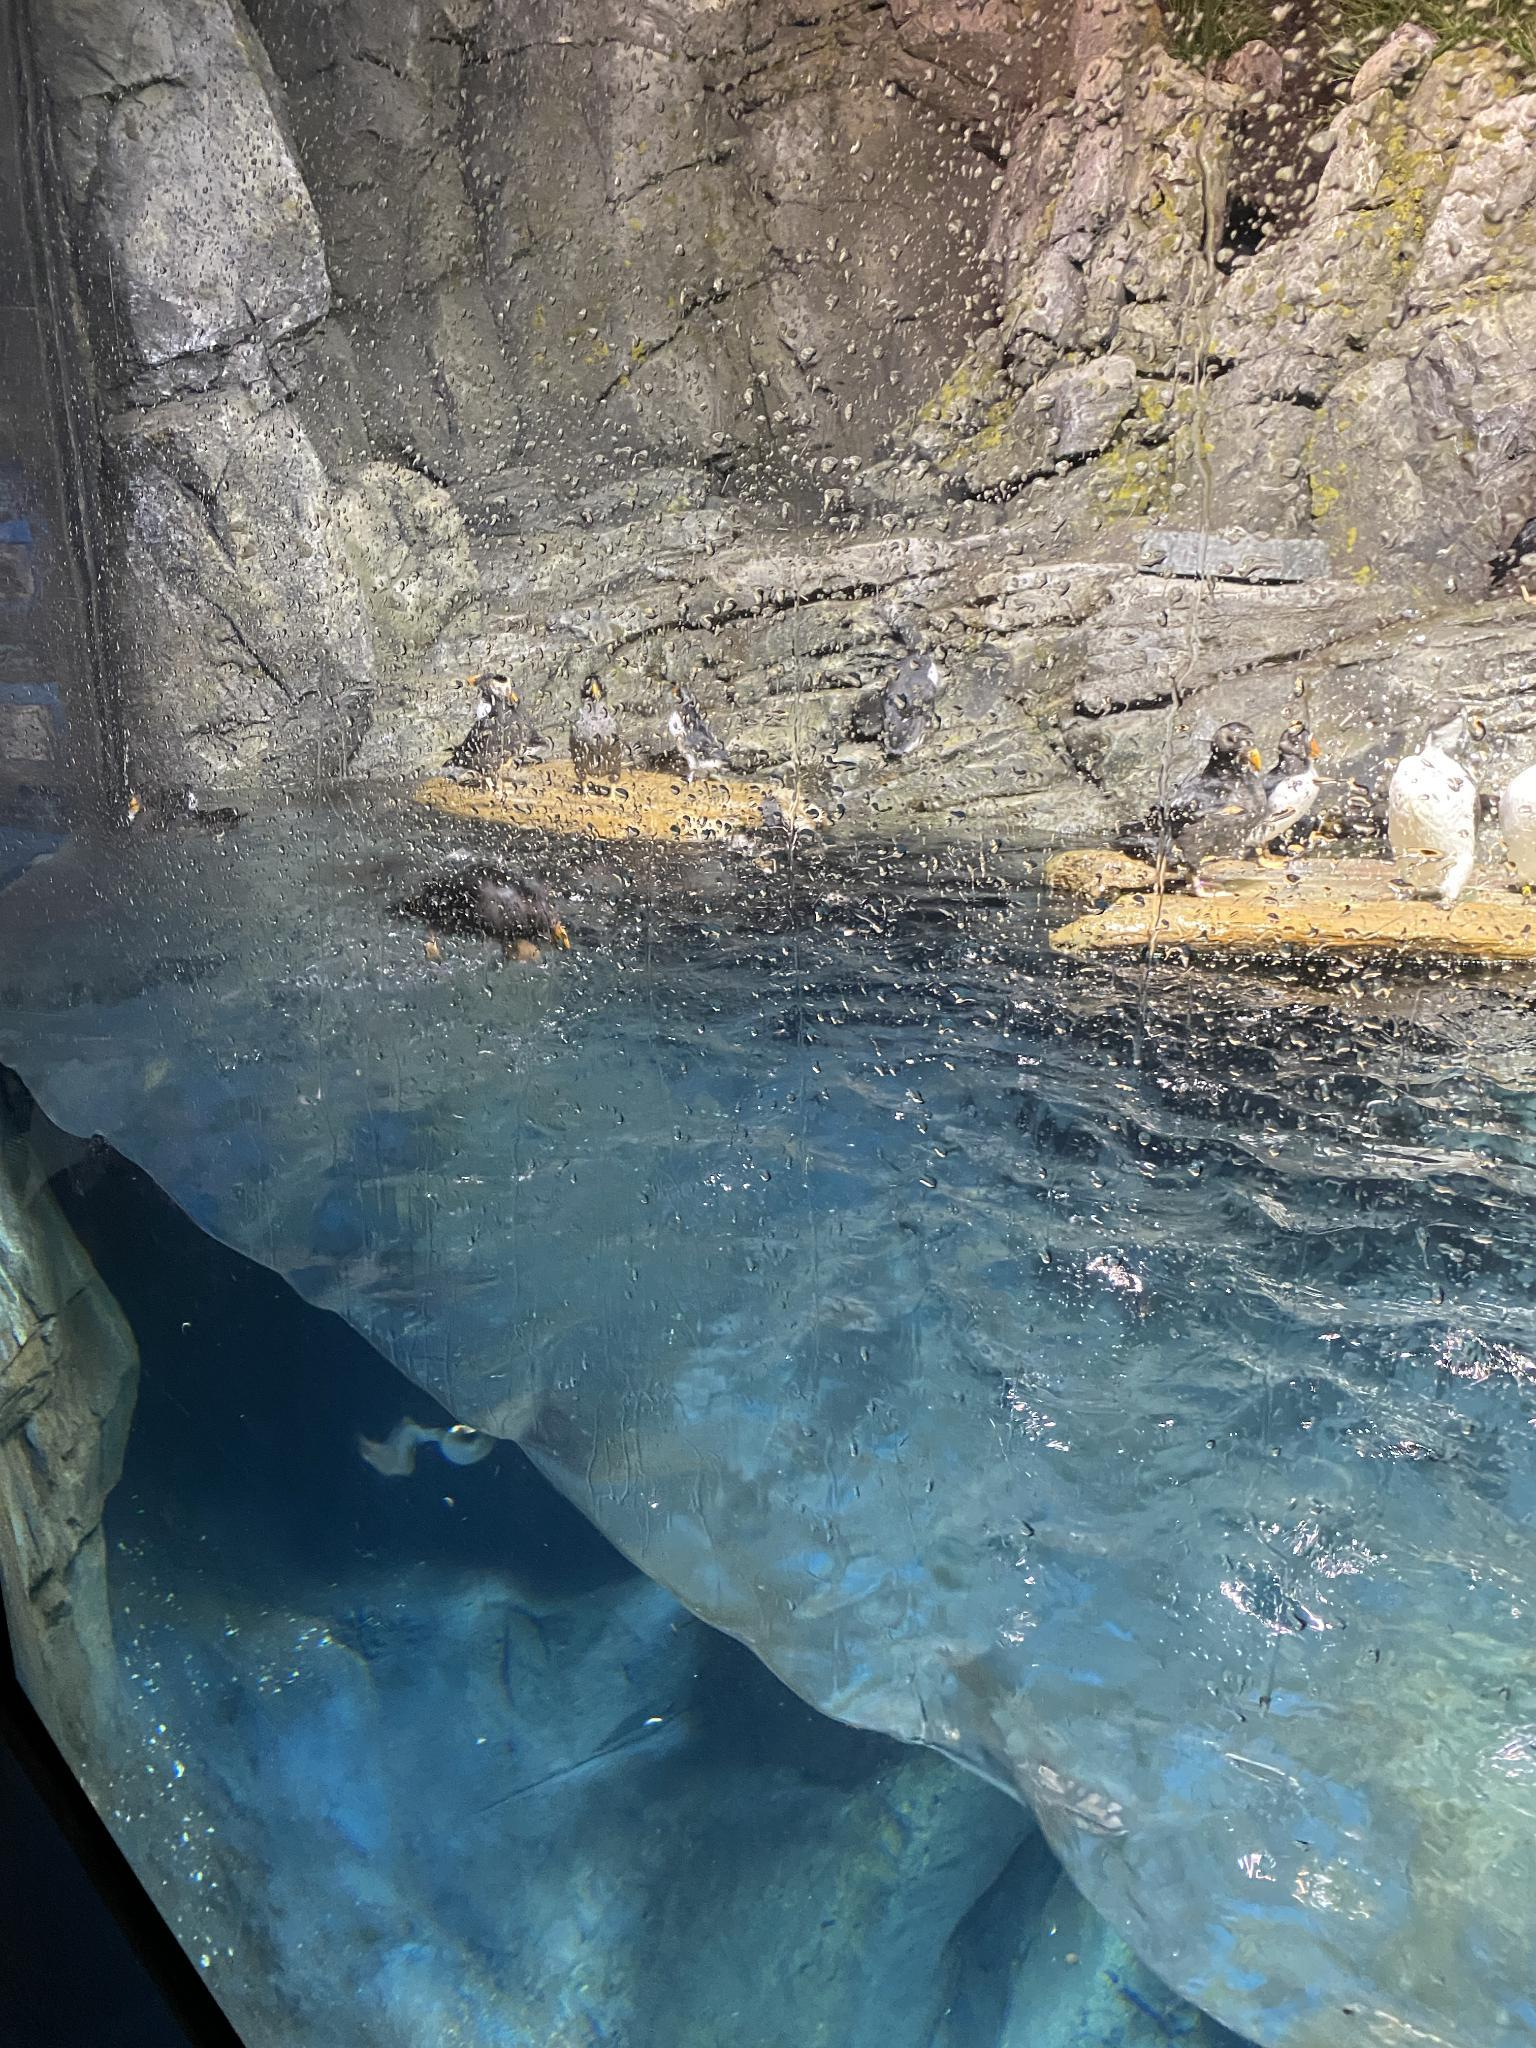puffin: (1121, 719, 1262, 900), (1375, 710, 1476, 905), (384, 864, 573, 964), (440, 676, 542, 793), (1249, 719, 1325, 848), (111, 777, 244, 848), (665, 677, 728, 789), (571, 671, 624, 795), (1499, 748, 1536, 900)
